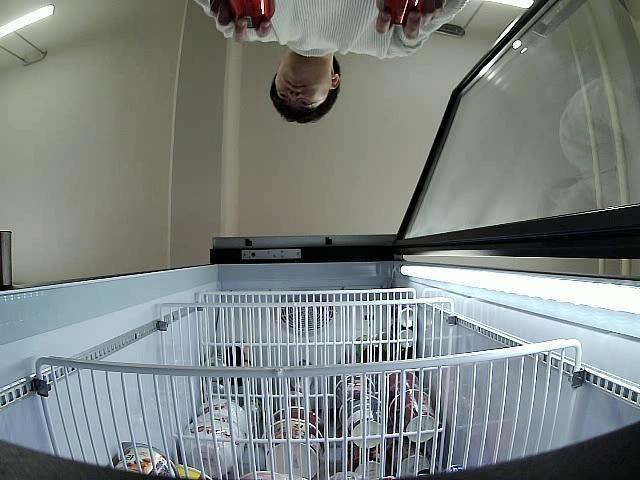11_cocaColaZero: (374, 0, 440, 27), (222, 0, 274, 28)
